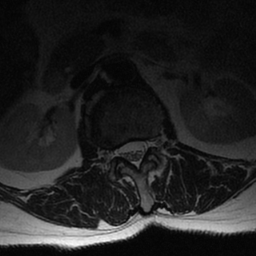CCS_normal: (130, 132, 140, 173)
LFS_normal: (149, 132, 157, 155)
LLS_normal: (141, 133, 149, 162)
RFS_stenosis: (110, 141, 119, 164)
RLS_normal: (119, 137, 130, 165)
